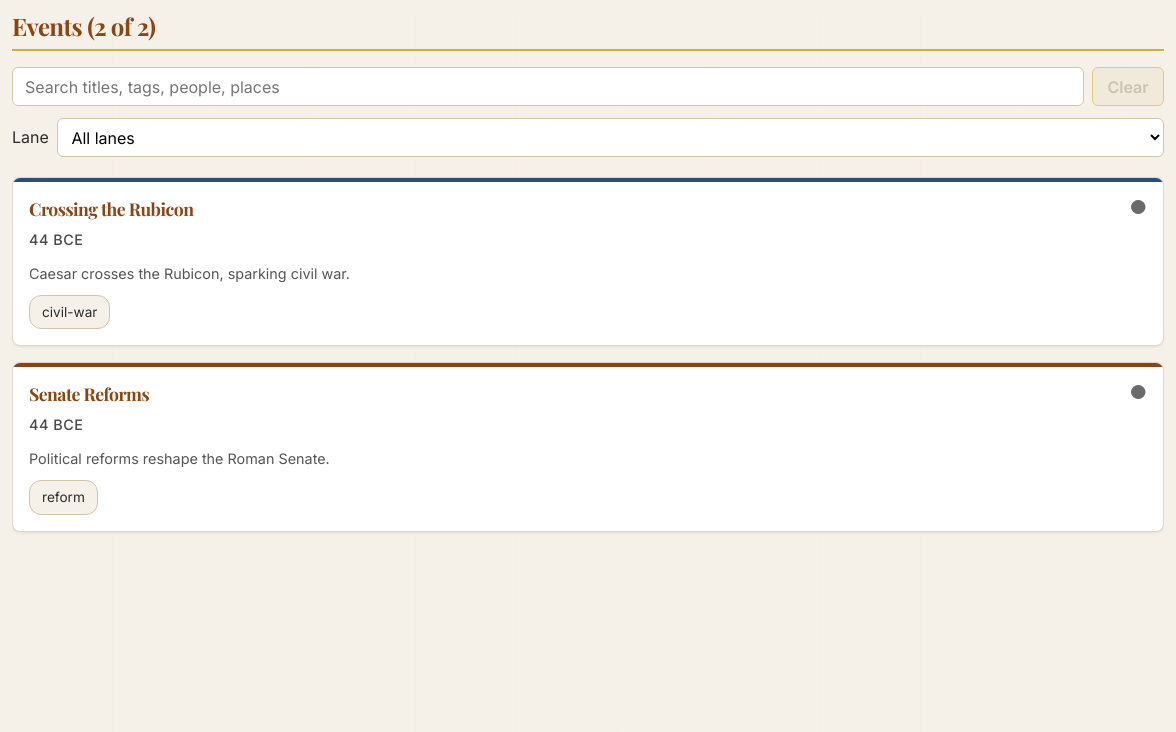
Test case: EventList › filters events by lane selection
Select "Politics" in the dropdown labelled "Lane" at (610, 138), box x1=57 y1=118 x2=1164 y2=157
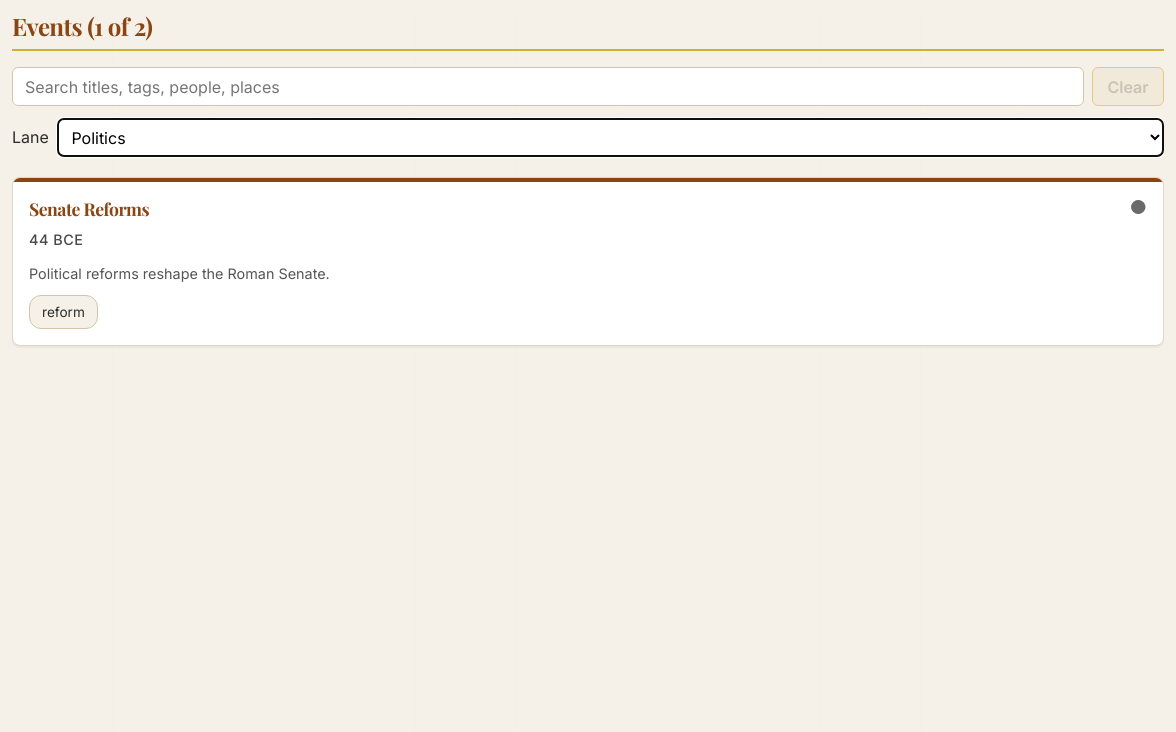
Expected: the heading "Senate Reforms" is shown, x1=29 y1=197 x2=149 y2=220
Expected: the button "Crossing the Rubicon" is gone
